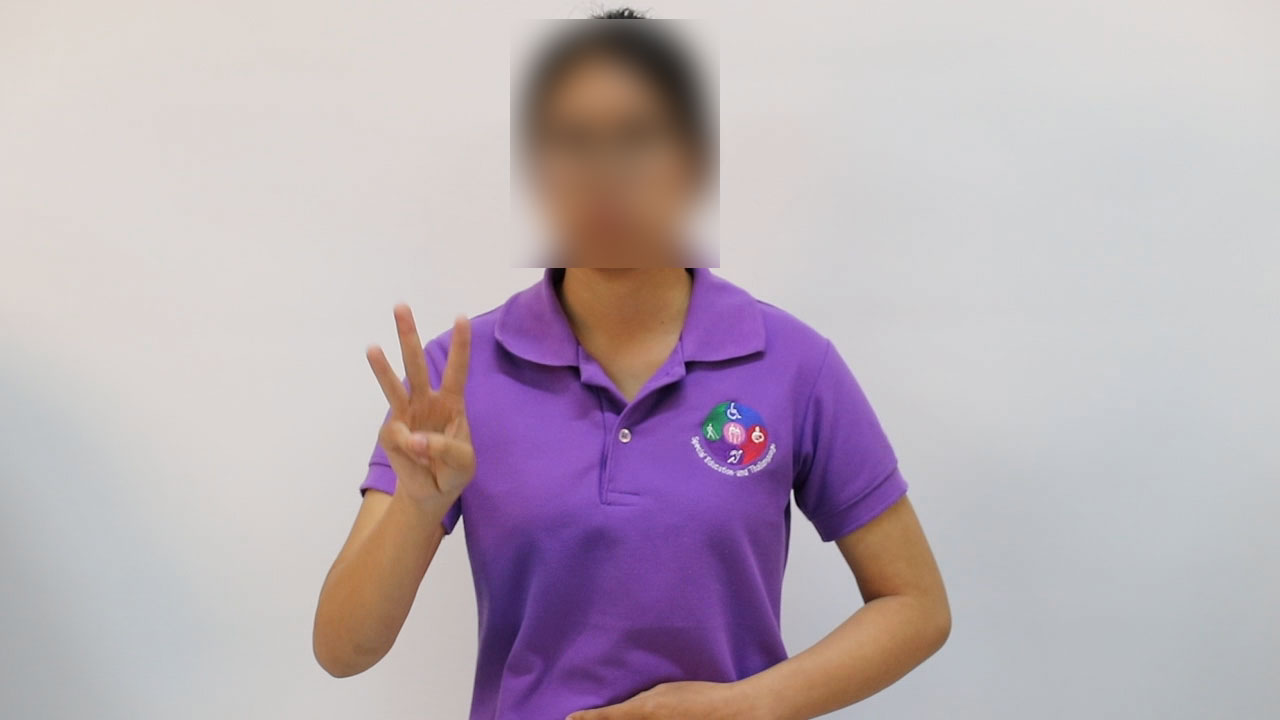wor: (349, 297, 487, 521)
